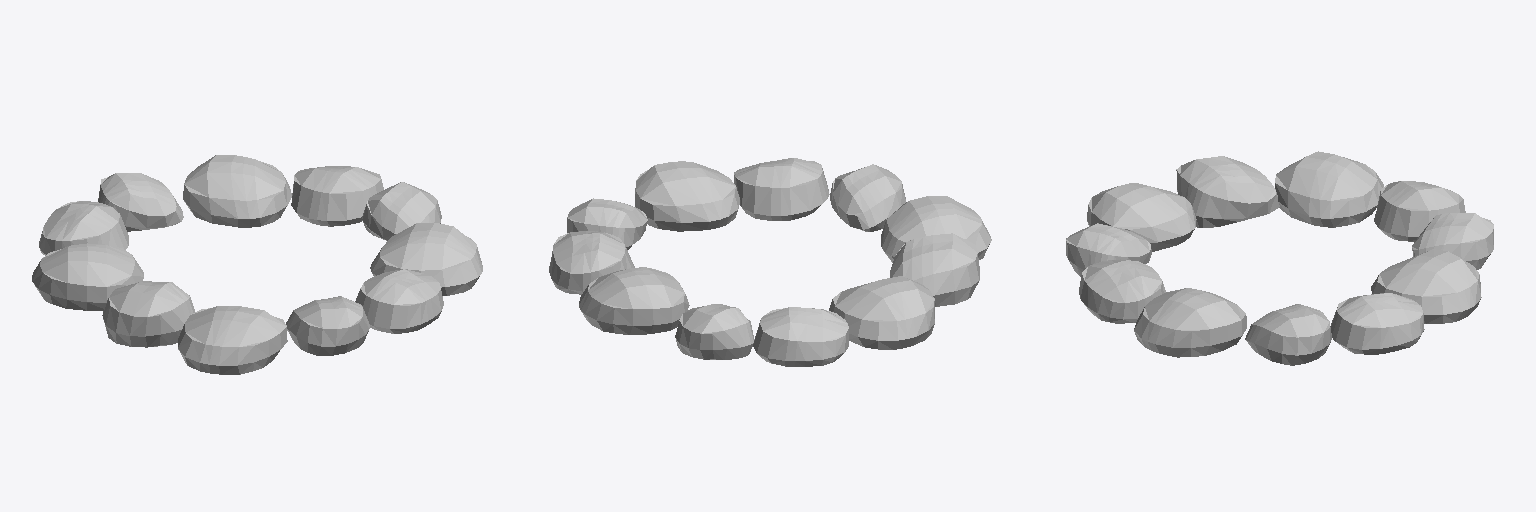
File: rocks.obj
The picture shows the model from 3 angles: view 1: azimuth 30°, elevation 25°; view 2: azimuth 150°, elevation 25°; view 3: azimuth 270°, elevation 25°; orthographic projection.
Parts seen in each view (by area): view 1: Camp_Fire_Fire_Woods_Rocks; view 2: Camp_Fire_Fire_Woods_Rocks; view 3: Camp_Fire_Fire_Woods_Rocks.
Boxes of the visible parts, x1,y1,x2,y2 form: Camp_Fire_Fire_Woods_Rocks: [32, 155, 482, 374]; Camp_Fire_Fire_Woods_Rocks: [549, 158, 991, 366]; Camp_Fire_Fire_Woods_Rocks: [1066, 151, 1493, 365].
Bounding box in the file's own units: 0.3279 × 0.0444 × 0.3222.